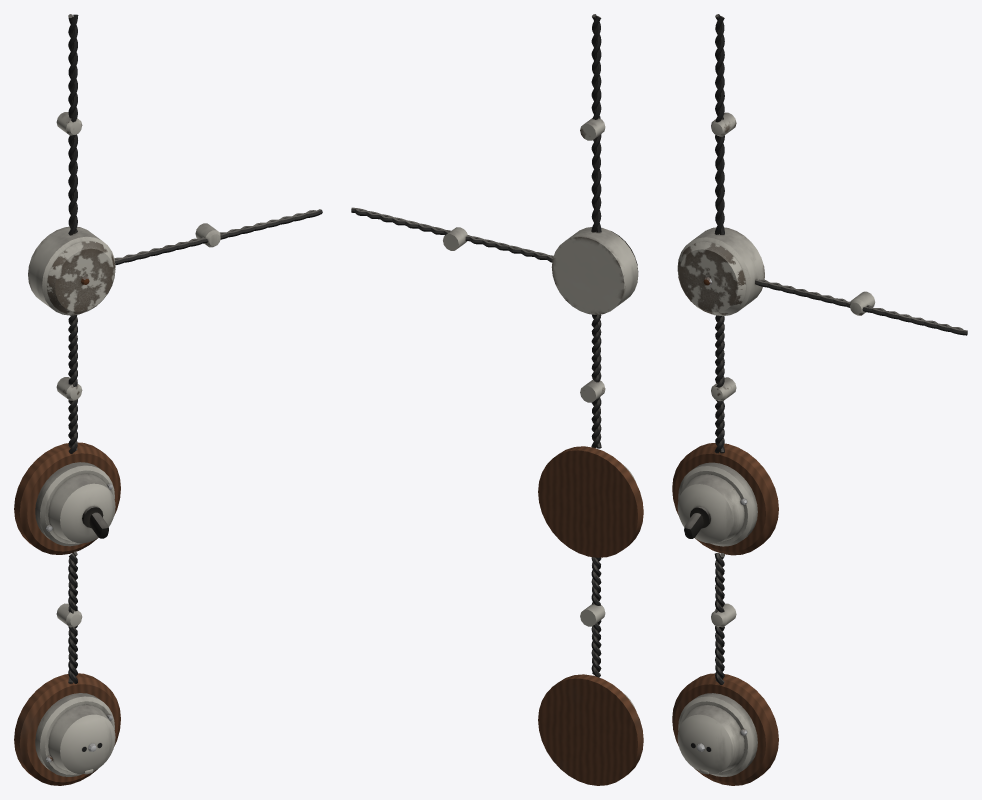
Rendered from SM_LightSwitch_Socket.fbx.
3 renders of one model, left to right at view 1: azimuth 30°, elevation 25°; view 2: azimuth 150°, elevation 25°; view 3: azimuth 330°, elevation 25°, orthographic.
Parts seen in each view (by area): view 1: SM_LightSwitch_Socket; view 2: SM_LightSwitch_Socket; view 3: SM_LightSwitch_Socket.
Boxes of the visible parts, bbox=[...] form: SM_LightSwitch_Socket: bbox=[14, 14, 322, 785]; SM_LightSwitch_Socket: bbox=[351, 14, 643, 785]; SM_LightSwitch_Socket: bbox=[672, 14, 967, 785].
Bounding box in the file's own units: 0.3661 × 0.9034 × 0.0877.
1 material, 1 textured.
